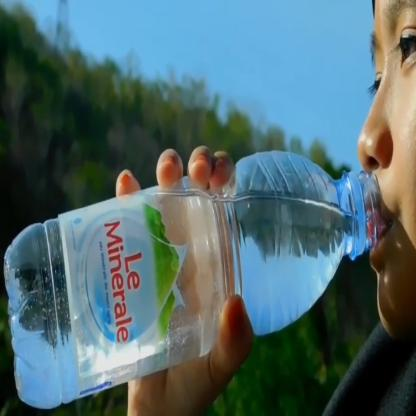plastic_bottles: (0, 156, 387, 409)
